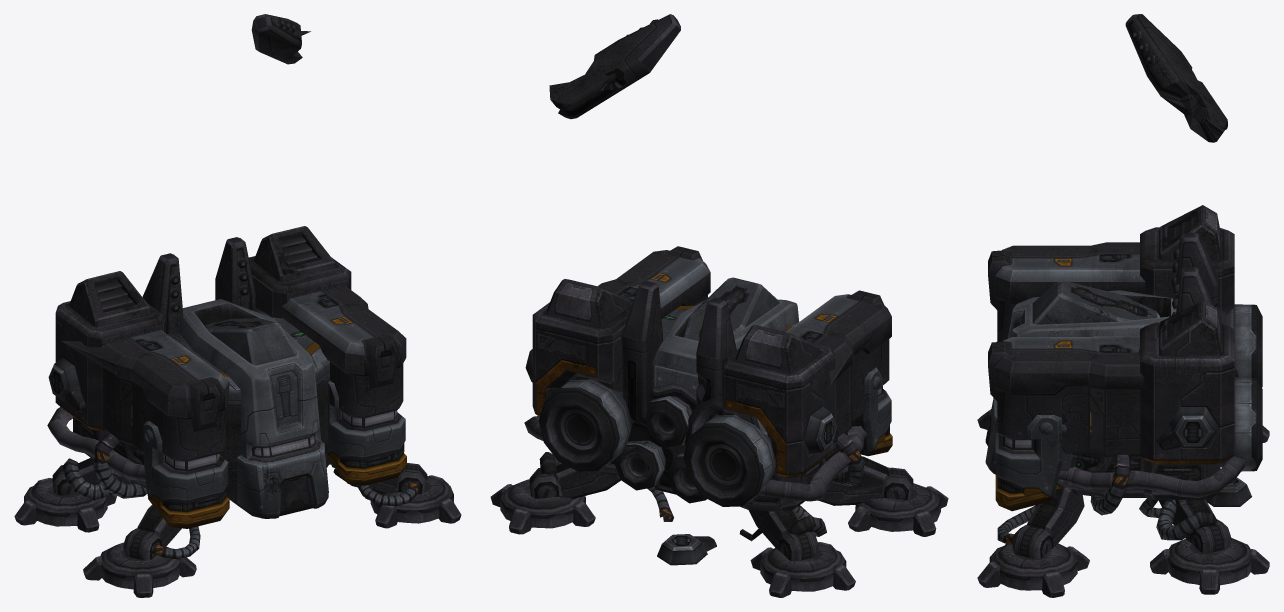
The model's file is barracksdeath.fbx.
3 views of the same model, side by side, from view 1: azimuth 30°, elevation 25°; view 2: azimuth 150°, elevation 25°; view 3: azimuth 270°, elevation 25° (orthographic). The views are drawn at different scales.
Parts seen in each view (by area): view 1: Geoset_1, Geoset_2, Geoset_0; view 2: Geoset_1, Geoset_2; view 3: Geoset_1, Geoset_2, Geoset_0.
Boxes of the visible parts, x1,y1,x2,y2 form: Geoset_1: (47,226,406,528); Geoset_2: (14,14,342,597); Geoset_0: (337,463,461,528); Geoset_1: (524,246,892,511); Geoset_2: (490,14,948,597); Geoset_1: (985,205,1262,515); Geoset_2: (977,14,1269,594); Geoset_0: (977,487,1089,597).
Size of the model in its own units: 4.29 by 5.43 by 2.81.
1 material, 1 textured.
